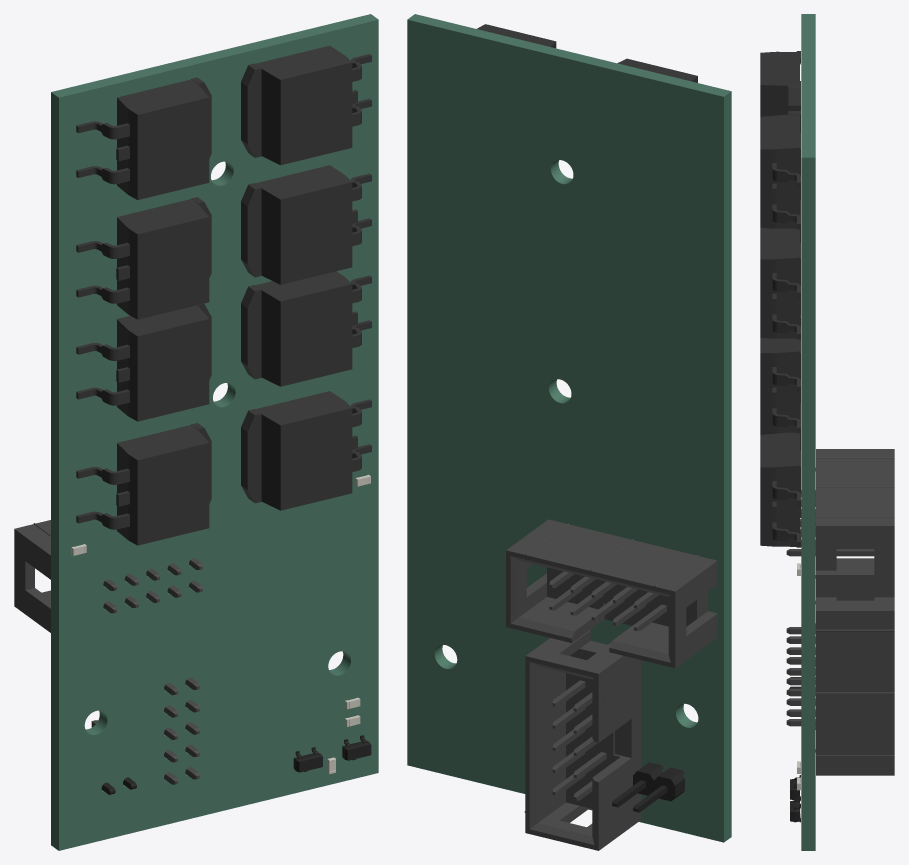
File: bmu-switch-mosfet.glb
3 views of the same model, side by side, from view 1: azimuth 30°, elevation 25°; view 2: azimuth 150°, elevation 25°; view 3: azimuth 270°, elevation 25° (orthographic). The views are drawn at different scales.
Visible parts, largest first — view 1: =>[0:1:1:12], =>[0:1:1:3]_6, =>[0:1:1:3]_1, =>[0:1:1:3]_3, =>[0:1:1:3]_5, =>[0:1:1:3], =>[0:1:1:3]_4, =>[0:1:1:3]_7, =>[0:1:1:3]_2, =>[0:1:1:11], =>[0:1:1:11]_1; view 2: =>[0:1:1:12], =>[0:1:1:11], =>[0:1:1:11]_1, =>[0:1:1:9]; view 3: =>[0:1:1:11]_1, =>[0:1:1:12], =>[0:1:1:11], =>[0:1:1:3]_1, =>[0:1:1:3]_3, =>[0:1:1:3]_6, =>[0:1:1:3]_5, =>[0:1:1:3].
Boxes of the visible parts, left/top/right/bottom form: =>[0:1:1:12]: left=51, top=14, right=378, bottom=850; =>[0:1:1:3]_6: left=241, top=165, right=371, bottom=284; =>[0:1:1:3]_1: left=241, top=45, right=371, bottom=165; =>[0:1:1:3]_3: left=241, top=391, right=371, bottom=510; =>[0:1:1:3]_5: left=241, top=271, right=371, bottom=386; =>[0:1:1:3]: left=76, top=77, right=211, bottom=199; =>[0:1:1:3]_4: left=76, top=197, right=211, bottom=319; =>[0:1:1:3]_7: left=76, top=423, right=211, bottom=545; =>[0:1:1:3]_2: left=76, top=303, right=211, bottom=421; =>[0:1:1:11]: left=14, top=520, right=202, bottom=632; =>[0:1:1:11]_1: left=91, top=677, right=199, bottom=784; =>[0:1:1:12]: left=407, top=14, right=731, bottom=842; =>[0:1:1:11]: left=506, top=519, right=717, bottom=668; =>[0:1:1:11]_1: left=524, top=630, right=640, bottom=850; =>[0:1:1:9]: left=612, top=762, right=684, bottom=812; =>[0:1:1:11]_1: left=786, top=597, right=894, bottom=775; =>[0:1:1:12]: left=801, top=14, right=815, bottom=850; =>[0:1:1:11]: left=786, top=449, right=894, bottom=597; =>[0:1:1:3]_1: left=760, top=111, right=800, bottom=229; =>[0:1:1:3]_3: left=760, top=432, right=800, bottom=547; =>[0:1:1:3]_6: left=760, top=227, right=800, bottom=339; =>[0:1:1:3]_5: left=760, top=315, right=800, bottom=433; =>[0:1:1:3]: left=760, top=51, right=800, bottom=116.
Size of the model in its own units: 0.038 by 0.0855 by 0.015.
